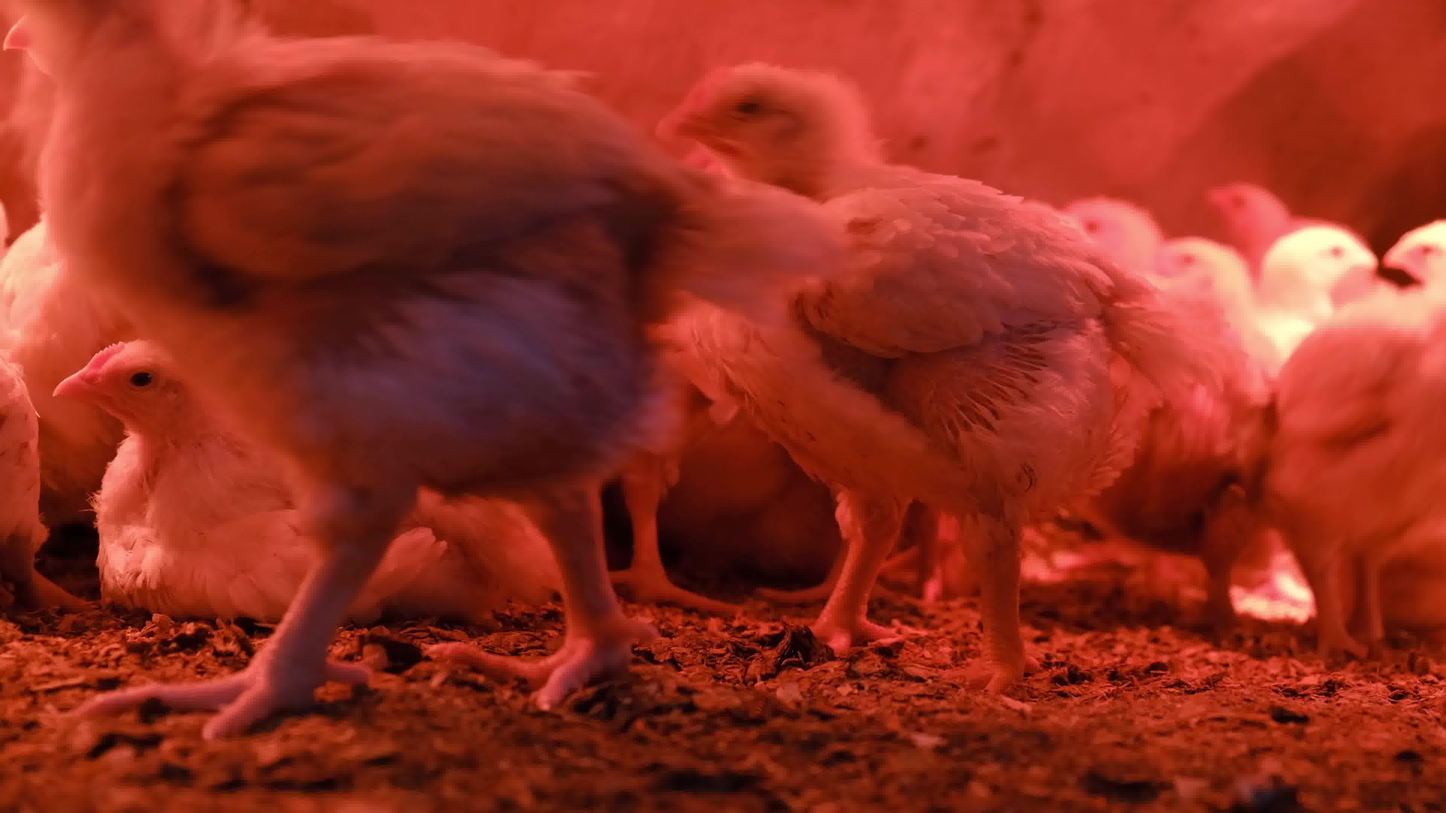AbNormal: (55, 337, 566, 625), (0, 341, 90, 625)
Normal: (0, 0, 884, 726), (659, 59, 1244, 688), (1269, 303, 1446, 670), (1097, 236, 1254, 641), (1239, 217, 1382, 383), (1202, 168, 1310, 271), (1059, 189, 1159, 286), (1382, 215, 1446, 309)
